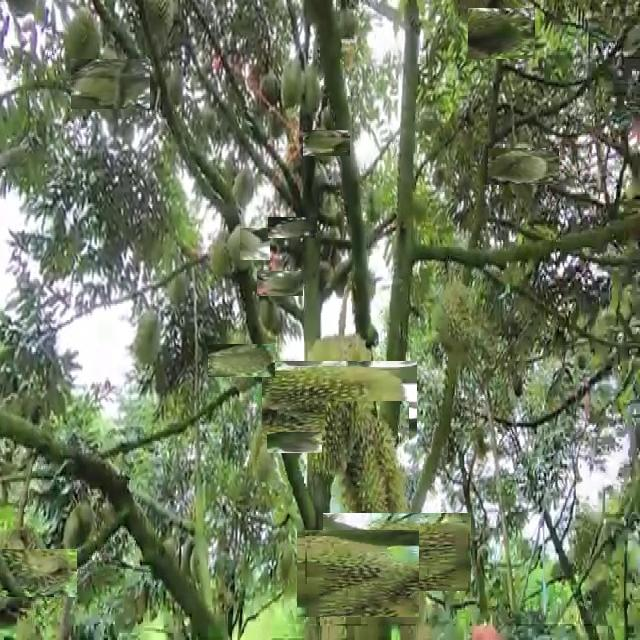durian: (280, 342, 398, 461), (325, 402, 409, 564), (341, 496, 454, 609), (306, 520, 410, 626), (429, 274, 485, 364), (0, 534, 64, 610), (78, 51, 144, 117), (472, 4, 531, 64), (62, 3, 103, 89), (58, 500, 96, 584), (496, 139, 550, 194), (216, 336, 267, 386), (130, 301, 164, 373), (220, 222, 264, 265), (208, 225, 240, 282), (280, 51, 308, 113), (299, 64, 328, 117), (275, 423, 313, 462), (308, 124, 345, 161), (262, 266, 299, 302), (275, 210, 310, 246)
